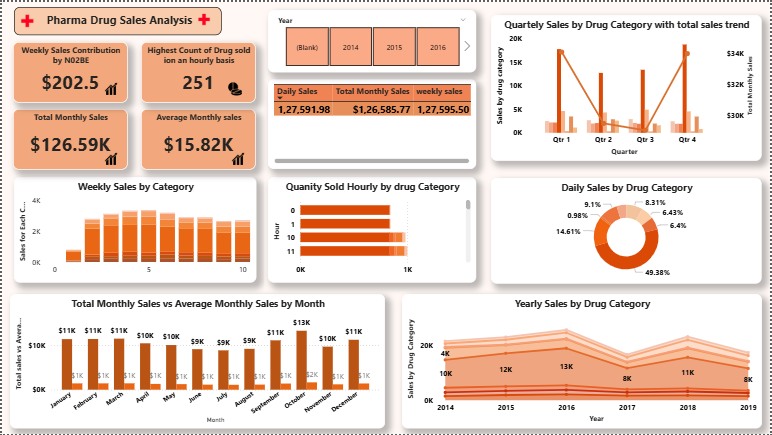

Layout of this report page (visuals, bound fields, positions):
{"tool":"powerbi","page":{"name":"Dashboard","canvas":[1280,720],"ordinal":0},"visuals":[{"type":"textbox","box":[19.2,9,346.2,47.4],"z":0},{"type":"columnChart","title":"Weekly Sales by Category","fields":{"Category":["Sales Weekly.Week Num"],"Y":["Sum(Sales Weekly.M01AB)","Sum(Sales Weekly.M01AE)","Sum(Sales Weekly.N02BA)","Sum(Sales Weekly.N02BE)","Sum(Sales Weekly.N05B)","Sum(Sales Weekly.N05C)","Sum(Sales Weekly.R03)","Sum(Sales Weekly.R06)"]},"box":[19.2,292.3,403.8,175.6],"z":1000},{"type":"clusteredColumnChart","title":"Total Monthly Sales vs Average Monthly Sales by Month","fields":{"Category":["Sales Monthly.Date.Variation.Date Hierarchy.Month"],"Y":["Sales Monthly.Total Monthly Sales","Sales Monthly.Average Monthly Sales"]},"box":[13.7,486.3,625.5,223.5],"z":2000},{"type":"barChart","title":"Quanity Sold Hourly by drug Category","fields":{"Category":["Sales Hourly.Hour"],"Y":["CountNonNull(Sales Hourly.M01AB)","Count(Sales Hourly.M01AE)","Count(Sales Hourly.N02BA)","Count(Sales Hourly.N02BE)","Count(Sales Hourly.N05B)","Count(Sales Hourly.N05C)","Count(Sales Hourly.R03)","Count(Sales Hourly.R06)"]},"box":[443.3,292.2,346.7,175.6],"z":3000},{"type":"donutChart","title":"Daily Sales by Drug Category","fields":{"Y":["Sum(Sales Daily.M01AB)","Sum(Sales Daily.M01AE)","Sum(Sales Daily.N02BA)","Sum(Sales Daily.N02BE)","Sum(Sales Daily.N05B)","Sum(Sales Daily.N05C)","Sum(Sales Daily.R03)","Sum(Sales Daily.R06)"]},"box":[815.7,292.8,450.6,175.9],"z":4000},{"type":"stackedAreaChart","title":"Yearly Sales by Drug Category","fields":{"Category":["Sales Monthly.Date.Variation.Date Hierarchy.Year"],"Y":["Sum(Sales Monthly.M01AB)","Sum(Sales Monthly.M01AE)","Sum(Sales Monthly.N02BA)","Sum(Sales Monthly.N02BE)","Sum(Sales Monthly.N05B)","Sum(Sales Monthly.N05C)","Sum(Sales Monthly.R03)","Sum(Sales Monthly.R06)"]},"box":[666.3,486.7,600,224.1],"z":5000},{"type":"lineClusteredColumnComboChart","title":"Quartely Sales by Drug Category with total sales trend","fields":{"Category":["Sales Monthly.Date.Variation.Date Hierarchy.Quarter"],"Y":["Sum(Sales Monthly.M01AB)","Sum(Sales Monthly.M01AE)","Sum(Sales Monthly.N02BA)","Sum(Sales Monthly.N02BE)","Sum(Sales Monthly.N05B)","Sum(Sales Monthly.N05C)","Sum(Sales Monthly.R03)","Sum(Sales Monthly.R06)"],"Y2":["Sales Monthly.Total Monthly Sales"]},"box":[815.6,22.2,451.1,243.3],"z":6000},{"type":"card","title":"Total Monthly Sales","fields":{"Values":["Sales Monthly.Total Monthly Sales"]},"box":[18.9,177.8,191.1,101.1],"z":7000},{"type":"card","title":"Average Monthly sales","fields":{"Values":["Sales Monthly.Average Monthly Sales"]},"box":[231.1,177.8,191.1,101.1],"z":8000},{"type":"card","title":"Highest Count of Drug sold ion an hourly basis","fields":{"Values":["Count(Sales Hourly.N02BE)"]},"box":[231.1,66.7,191.1,101.1],"z":9000},{"type":"card","title":"Weekly Sales Contribution by N02BE","fields":{"Values":["Sales Weekly.weekly sales contribution by N02BE"]},"box":[18.9,66.7,191.1,101.1],"z":10000},{"type":"tableEx","fields":{"Values":["Sales Daily.Daily Sales","Sales Monthly.Total Monthly Sales","Sales Weekly.weekly sales"]},"box":[443.3,128.9,346.7,150],"z":11000},{"type":"slicer","fields":{"Values":["Sales Monthly.Date.Variation.Date Hierarchy.Year"]},"box":[443.3,13.3,346.7,104.4],"z":12000},{"type":"image","box":[365.6,127.8,47.8,33.3],"z":13000},{"type":"image","box":[162.2,127.8,40,33.3],"z":14000},{"type":"image","box":[162.2,245.6,40,33.3],"z":15000},{"type":"image","box":[373.3,245.6,40,33.3],"z":16000},{"type":"image","box":[310.8,8.4,53.8,42],"z":17000},{"type":"image","box":[18.5,10.1,47,43.7],"z":18000}]}

Visuals, with their boxes in screenshot pixels (x1, y1, x2, y2), scaled from the page's 1280x720 canvas onto the 772x435 screenshot:
textbox: 12 5 220 34
"Weekly Sales by Category" columnChart: 12 177 255 283
"Total Monthly Sales vs Average Monthly Sales by Month" clusteredColumnChart: 8 294 386 429
"Quanity Sold Hourly by drug Category" barChart: 267 177 476 283
"Daily Sales by Drug Category" donutChart: 492 177 764 283
"Yearly Sales by Drug Category" stackedAreaChart: 402 294 764 429
"Quartely Sales by Drug Category with total sales trend" lineClusteredColumnComboChart: 492 13 764 160
"Total Monthly Sales" card: 11 107 127 169
"Average Monthly sales" card: 139 107 255 169
"Highest Count of Drug sold ion an hourly basis" card: 139 40 255 101
"Weekly Sales Contribution by N02BE" card: 11 40 127 101
tableEx - Sales Daily.Daily Sales x Sales Monthly.Total Monthly Sales: 267 78 476 169
slicer - Sales Monthly.Date.Variation.Date Hierarchy.Year: 267 8 476 71
image: 221 77 249 97
image: 98 77 122 97
image: 98 148 122 169
image: 225 148 249 169
image: 187 5 220 30
image: 11 6 40 33
